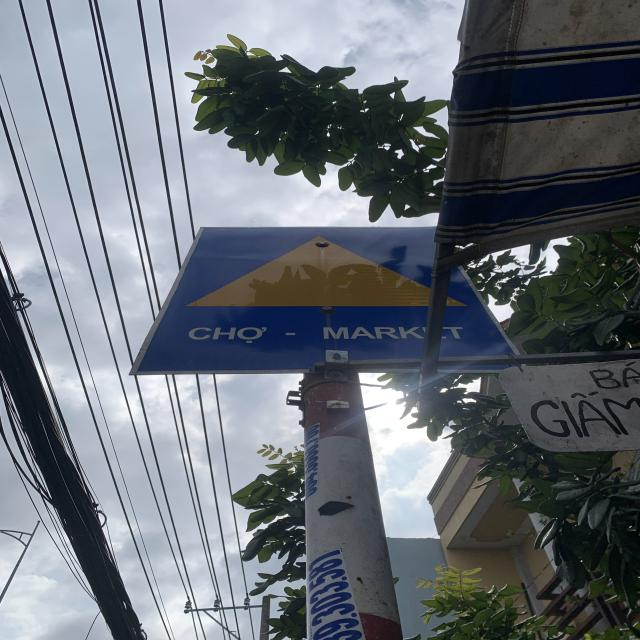Cho_Quay_Xe: (131, 222, 525, 370)
